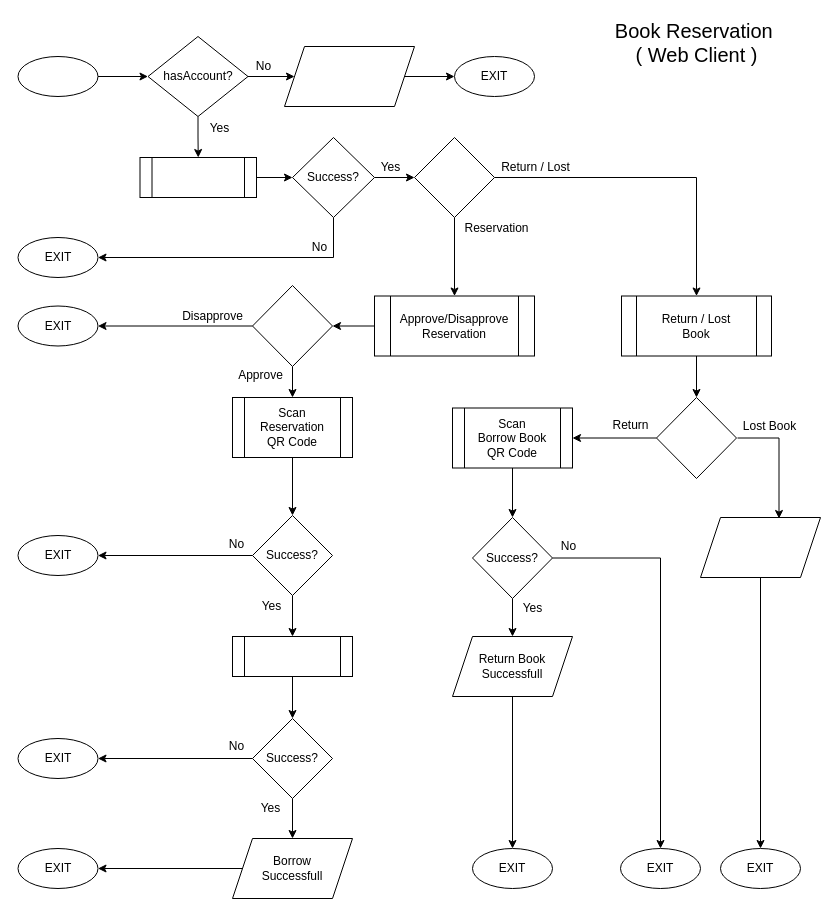
The diagram is 838 pixels wide and 916 high, and some of its shapes have lost their labels. Here are the shapes that lost their labels. From the top down, the centre of each, then its label:
At pixel 57 76: "START".
At pixel 349 76: "Request Admin for Registration".
At pixel 197 177: "Login".
At pixel 760 547: "Lost Book Successfull".
At pixel 292 656: "Borrow Book".
